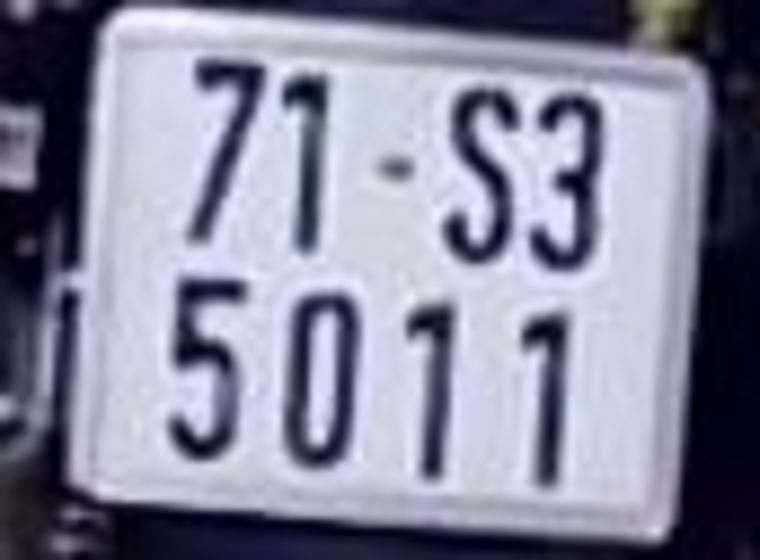-: (375, 141, 421, 183)
0: (285, 283, 362, 473)
1: (402, 299, 465, 485), (280, 63, 333, 262), (515, 307, 569, 492)
3: (529, 88, 605, 274)
5: (170, 270, 251, 461)
7: (190, 59, 266, 248)
S: (441, 83, 521, 270)
